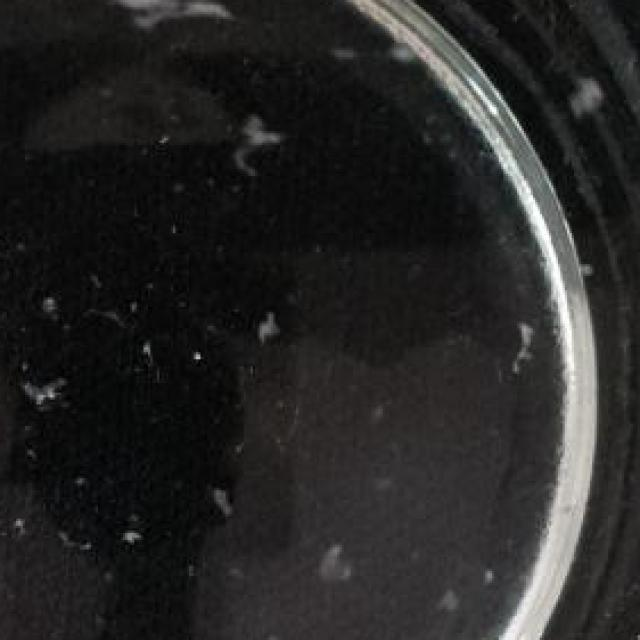Microplastic: (109, 0, 271, 48), (549, 50, 629, 147), (7, 348, 84, 417), (230, 97, 298, 169), (503, 305, 547, 402), (309, 518, 366, 580), (110, 499, 150, 574), (248, 310, 280, 360)
